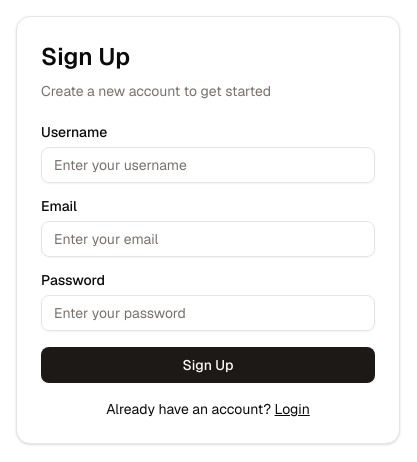
Scenario: Register Page › should disable submit button while loading
Type "newuser" into the field labelled "Username". click: (208, 165)
box: [41,147,375,183]
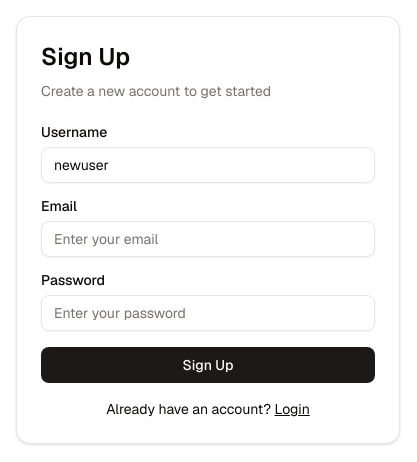
Type "new@example.com" into the field labelled "Email". click: (208, 239)
box: [41,221,375,257]
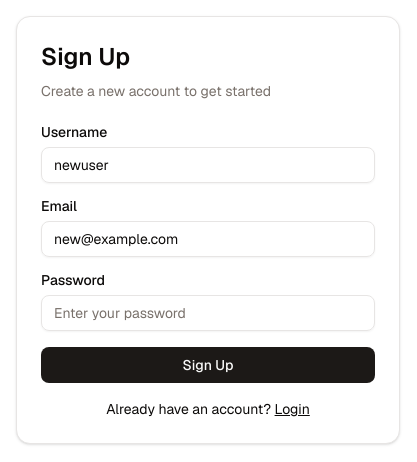
Type "Pass@123" into the password field labelled "Password". click: (208, 313)
box: [41,295,375,331]
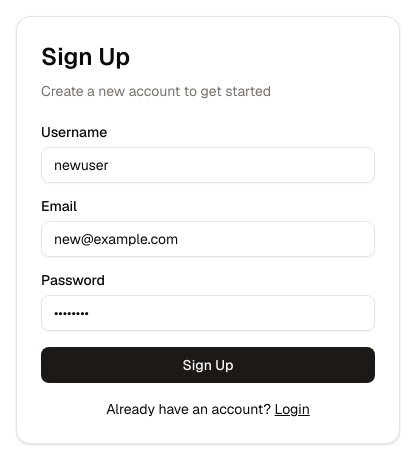
Click the button "Sign Up". click: (208, 365)
box: [41,347,375,383]
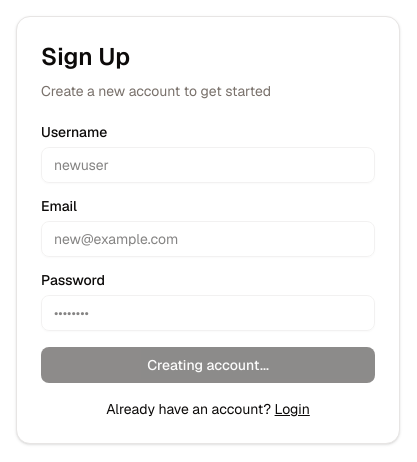
Expected: the button named "sign up" is disabled, [41,347,375,383]
